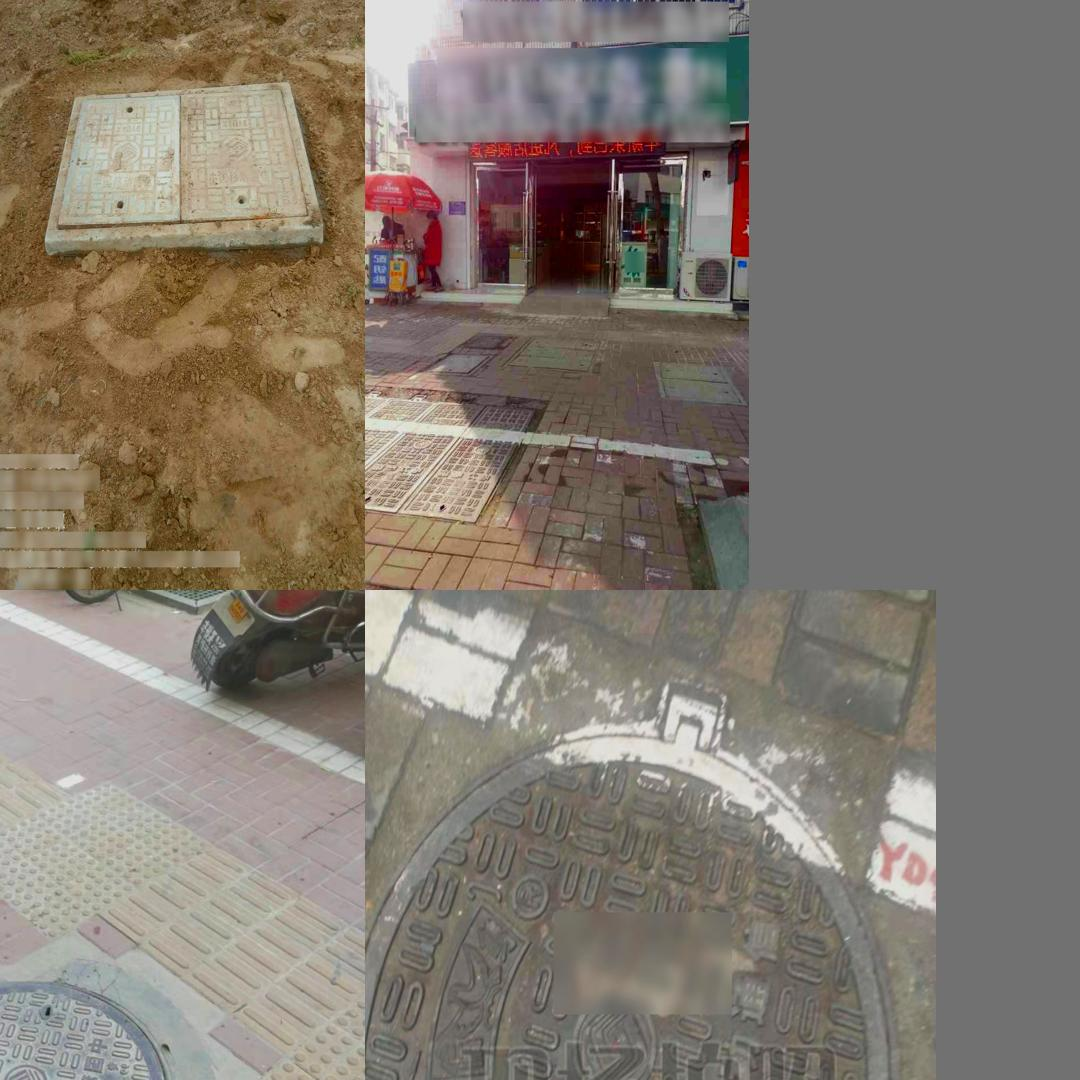good: (365, 675, 905, 1080), (44, 81, 323, 235), (365, 390, 546, 523), (0, 978, 173, 1080), (500, 333, 602, 372), (654, 361, 748, 402)
